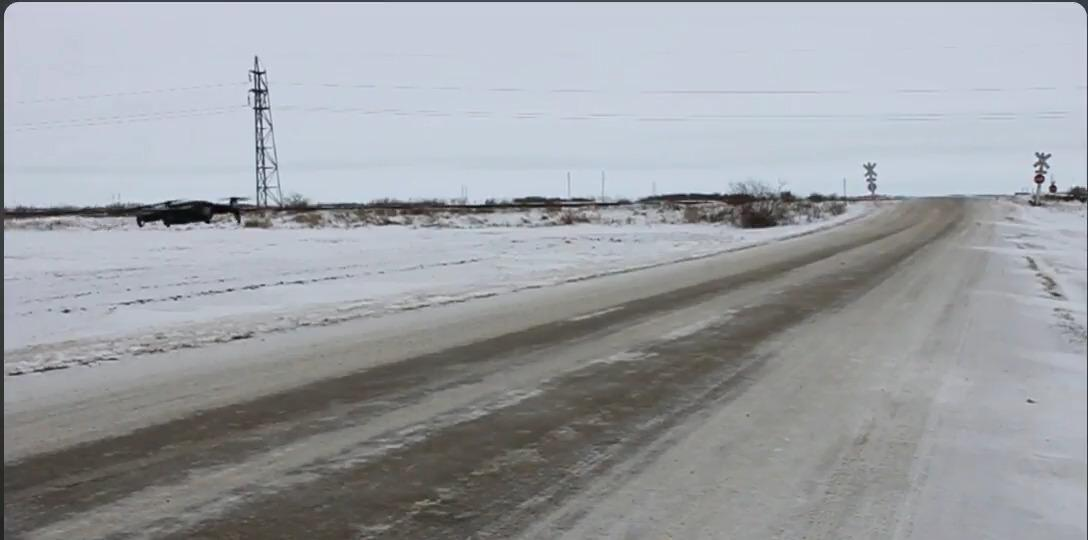dr: (134, 195, 248, 227)
